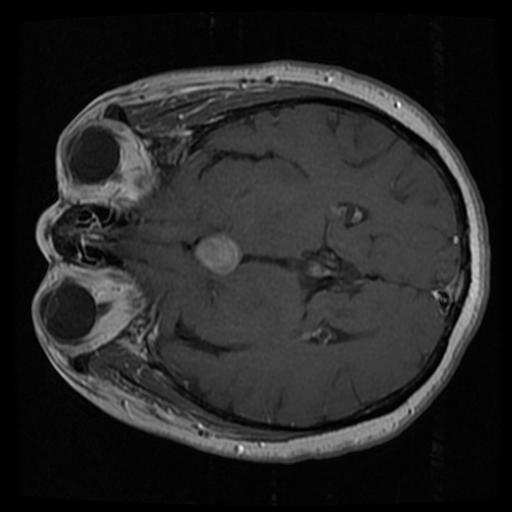pituitary tumour: (195, 234, 240, 272)
